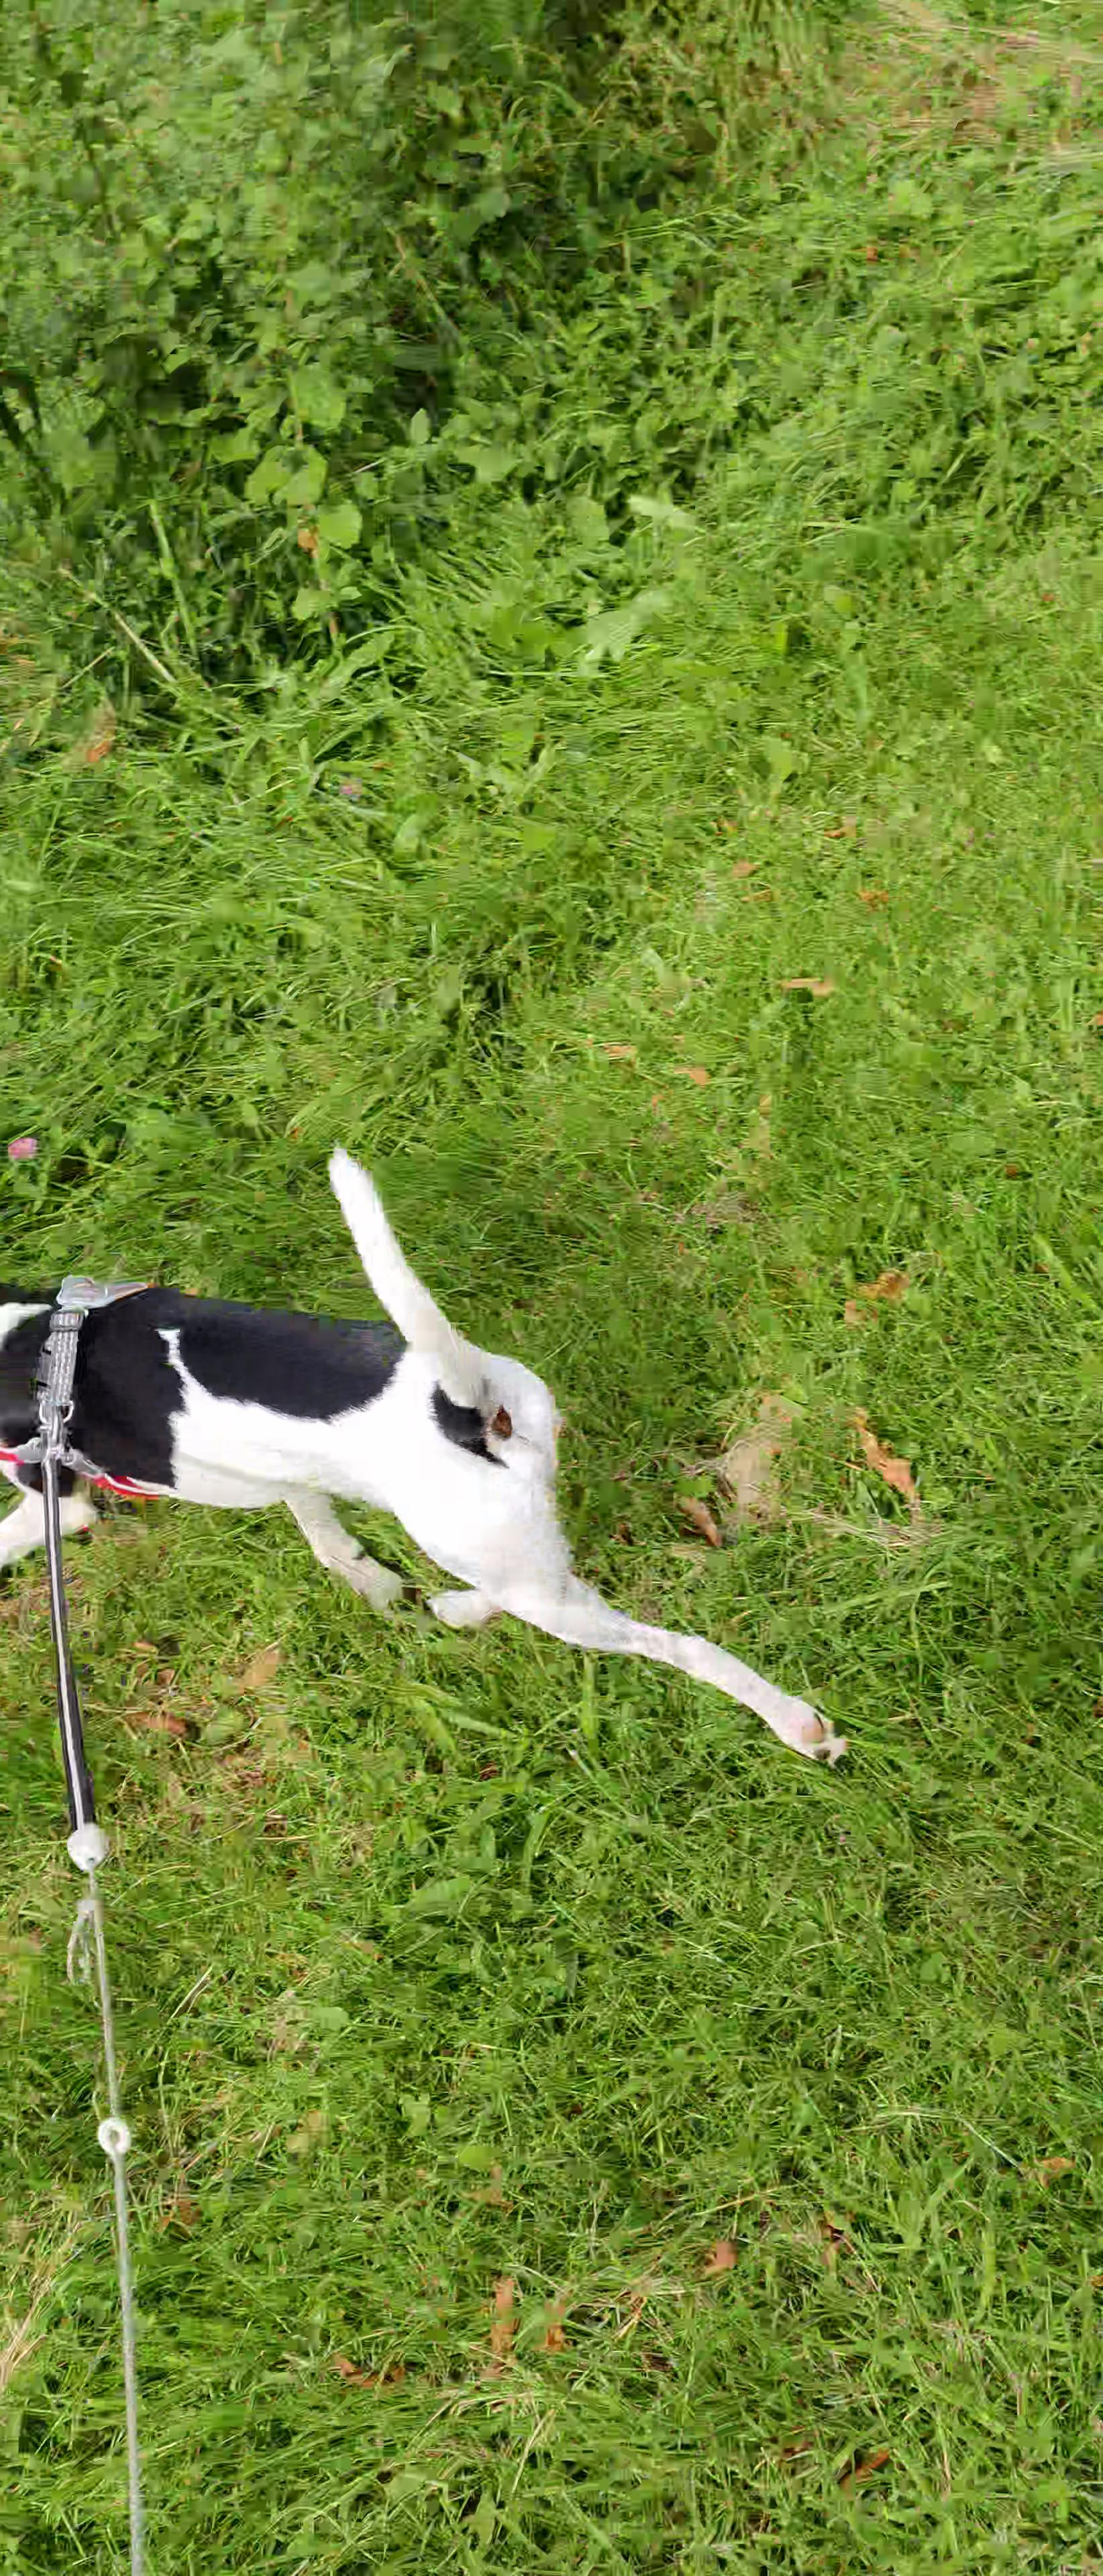Dog: (0, 1106, 875, 1799)
